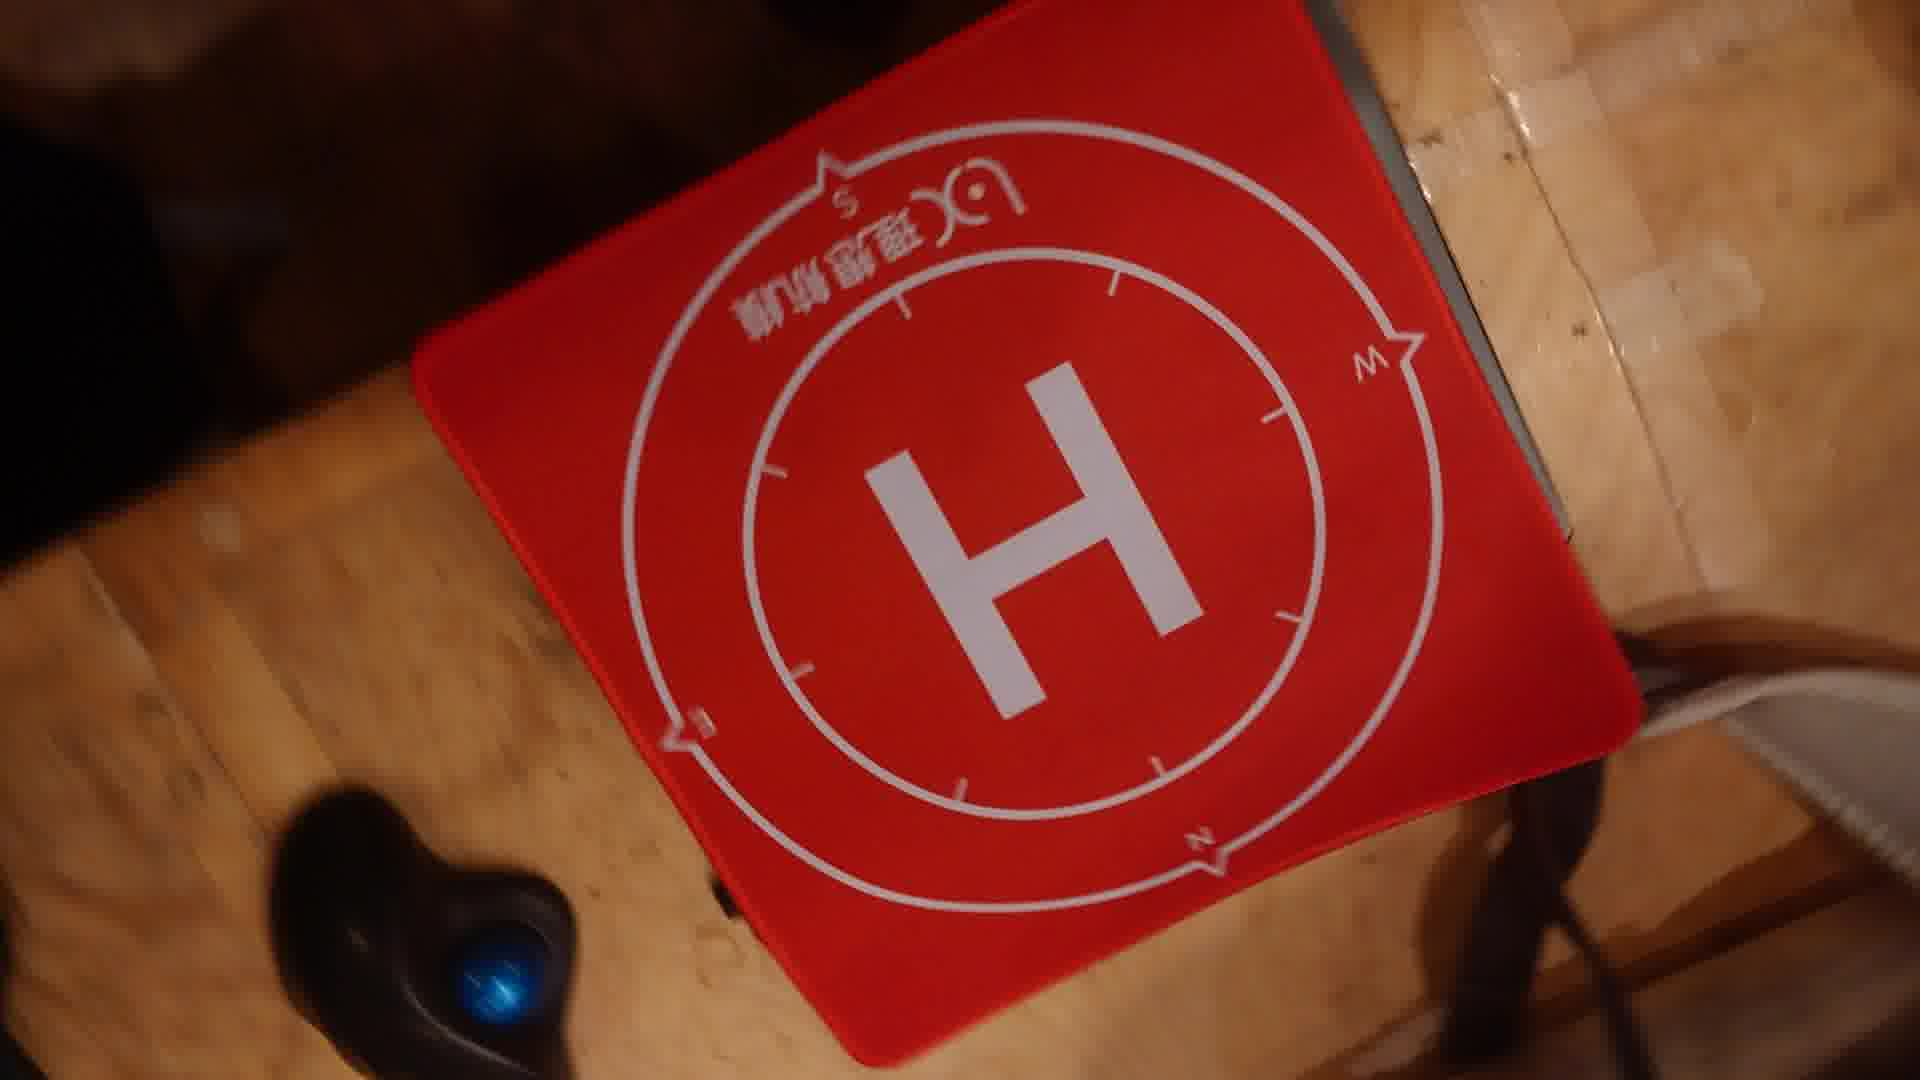H: (866, 357, 1208, 727)
